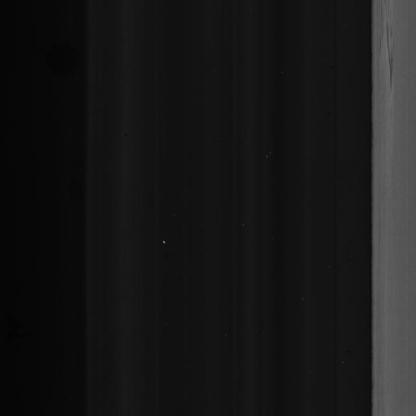silk_spot: (374, 0, 404, 107)
